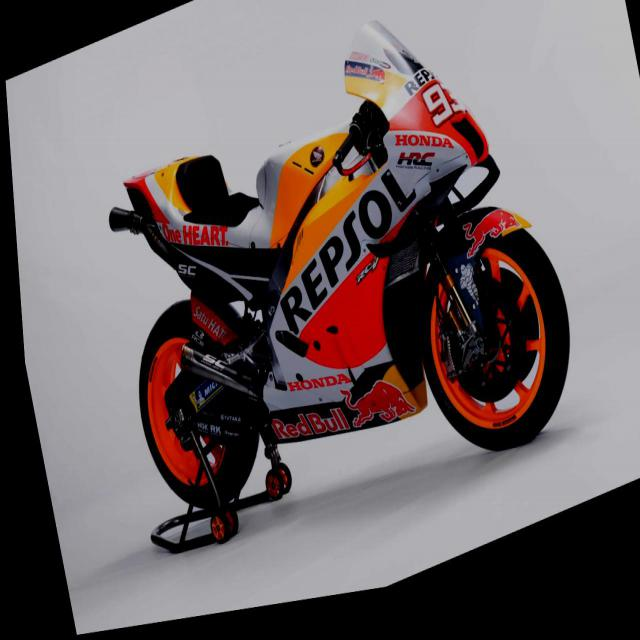HRC RCV 213: (67, 0, 588, 611)
